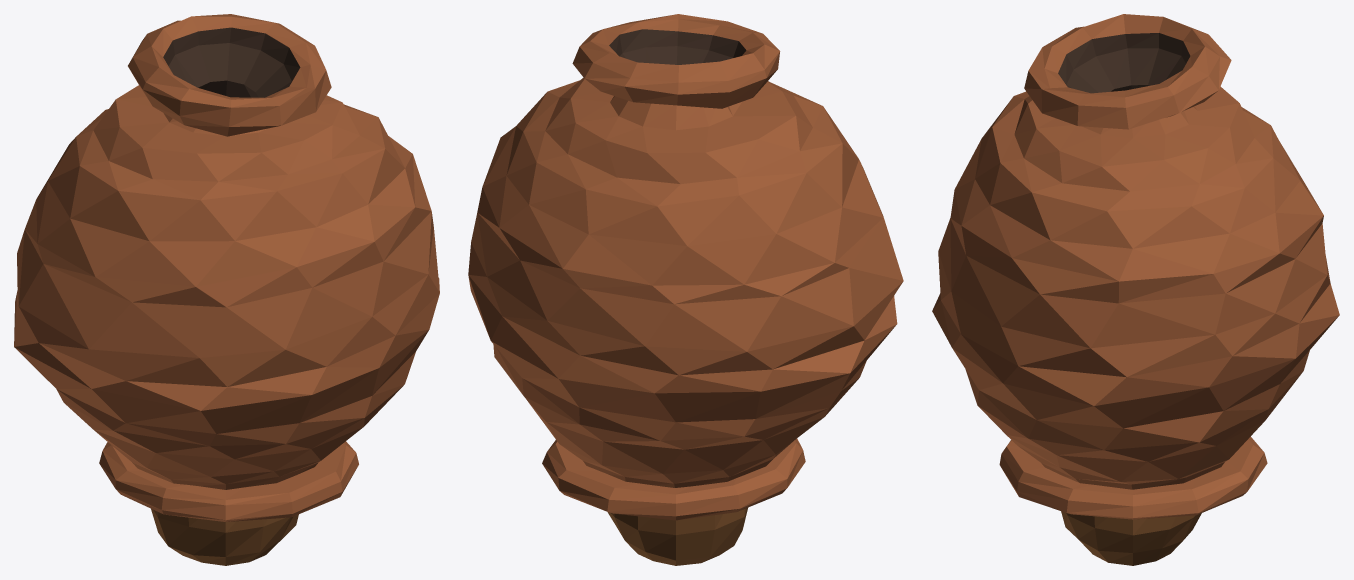
File: potter-wasp-pot-8ebfee.glb
3 renders of one model, left to right at view 1: azimuth 30°, elevation 25°; view 2: azimuth 150°, elevation 25°; view 3: azimuth 270°, elevation 25°, orthographic.
Parts seen in each view (by area): view 1: potter-wasp-pot-mesh; view 2: potter-wasp-pot-mesh; view 3: potter-wasp-pot-mesh.
Part boxes in pixels (x1=…): potter-wasp-pot-mesh: x1=14, y1=14, x2=439, y2=565; potter-wasp-pot-mesh: x1=468, y1=14, x2=903, y2=565; potter-wasp-pot-mesh: x1=932, y1=14, x2=1339, y2=565.
Bounding box in the file's own units: 0.8767 × 1.09 × 0.8073.
